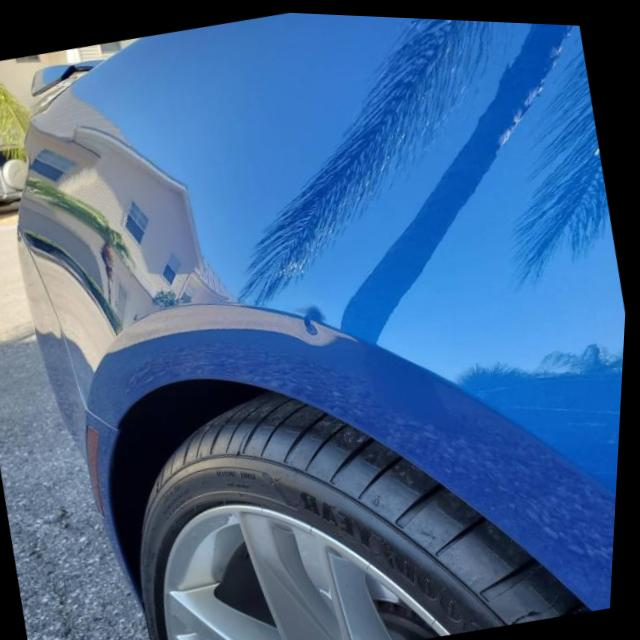Dent: (265, 278, 366, 357)
